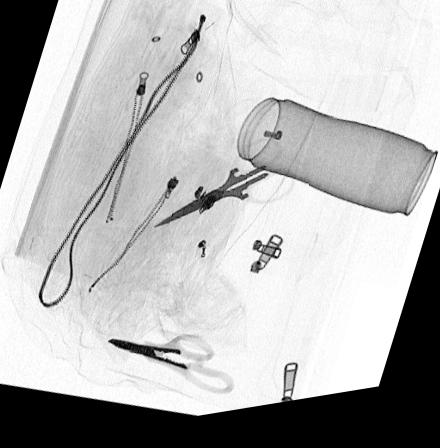Scissors: (146, 139, 298, 237), (101, 336, 239, 406)
